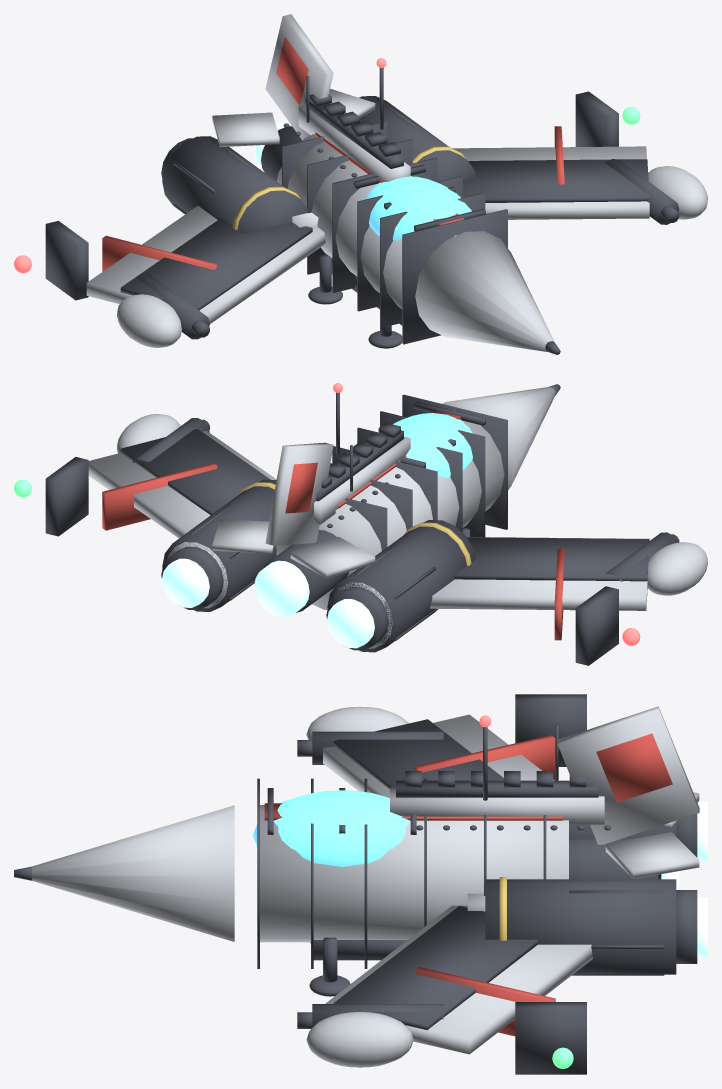
The model's file is Ship.glb.
3 views of the same model, one above another, from view 1: azimuth 30°, elevation 25°; view 2: azimuth 150°, elevation 25°; view 3: azimuth 270°, elevation 25° (orthographic). The views are drawn at different scales.
Parts seen in each view (by area): view 1: Escort; view 2: Escort; view 3: Escort.
Part boxes in pixels (x1=…): Escort: x1=14, y1=14, x2=707, y2=354; Escort: x1=14, y1=383, x2=707, y2=665; Escort: x1=14, y1=694, x2=707, y2=1074.
Bounding box in the file's own units: 14.36 × 4.92 × 11.63.
